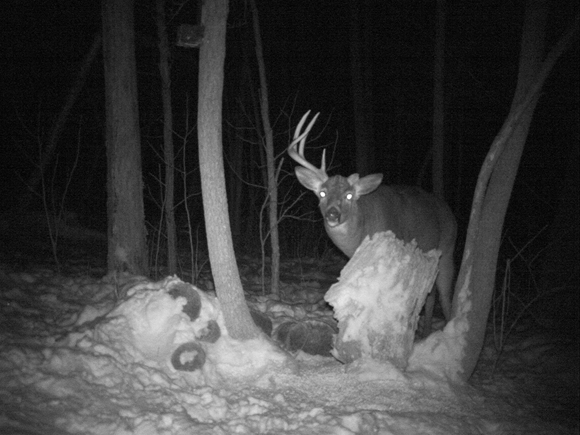deer: (266, 88, 480, 376)
